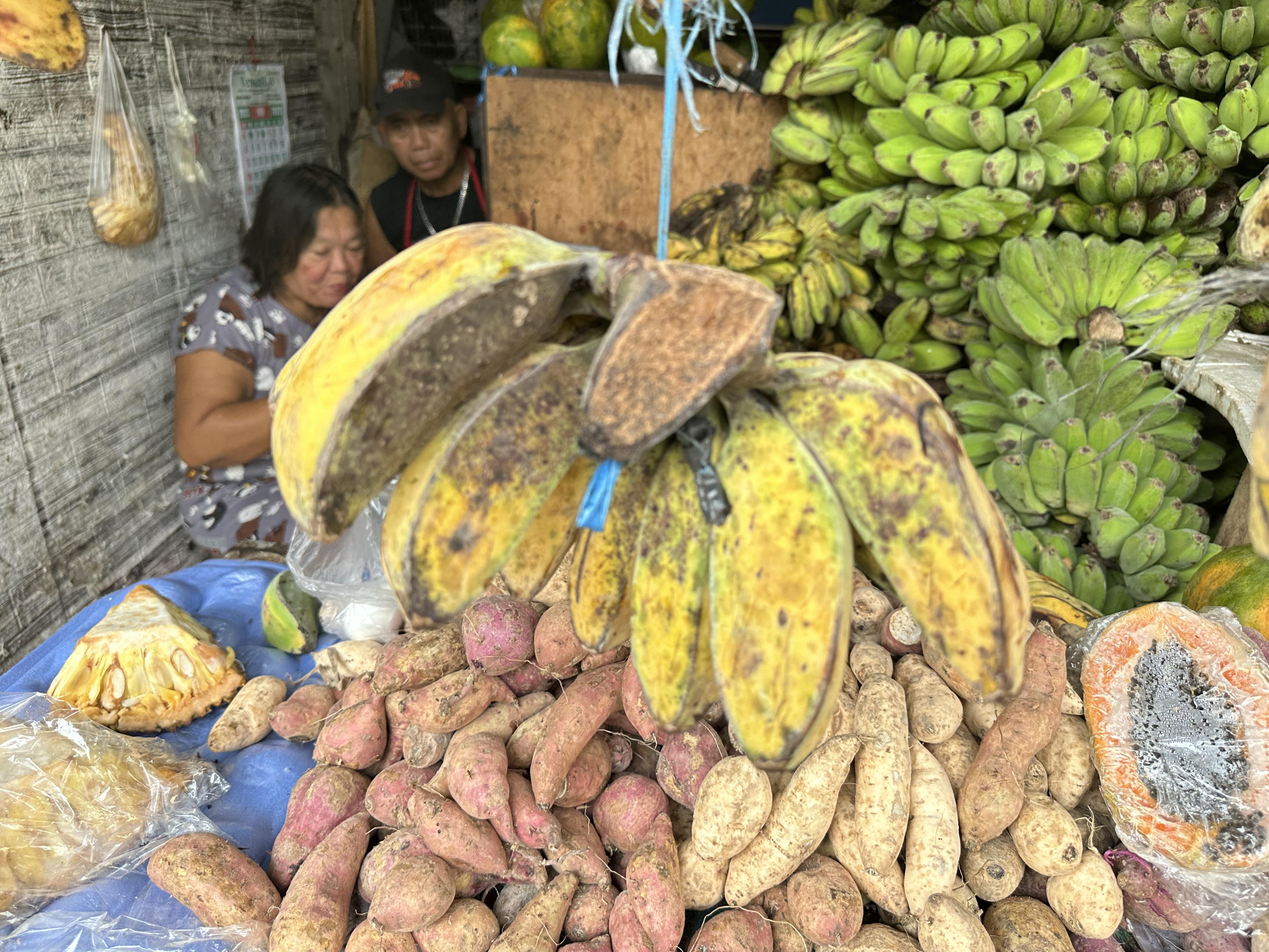underripe: (268, 223, 1031, 772)
